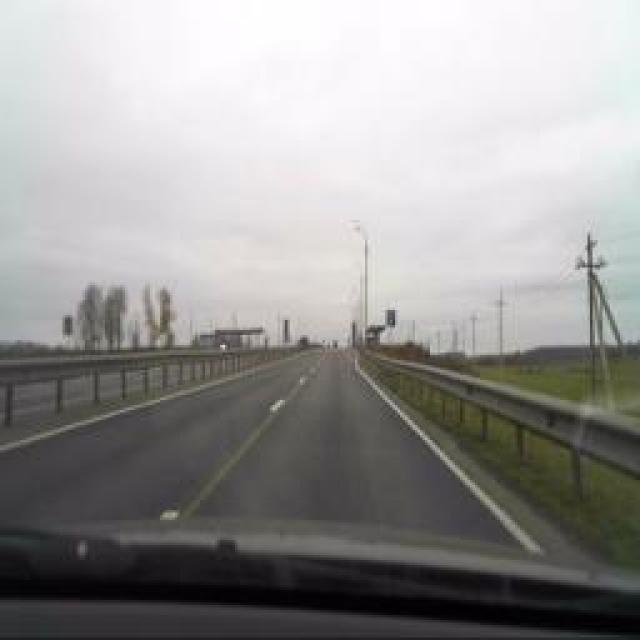sign: (386, 309, 396, 329)
